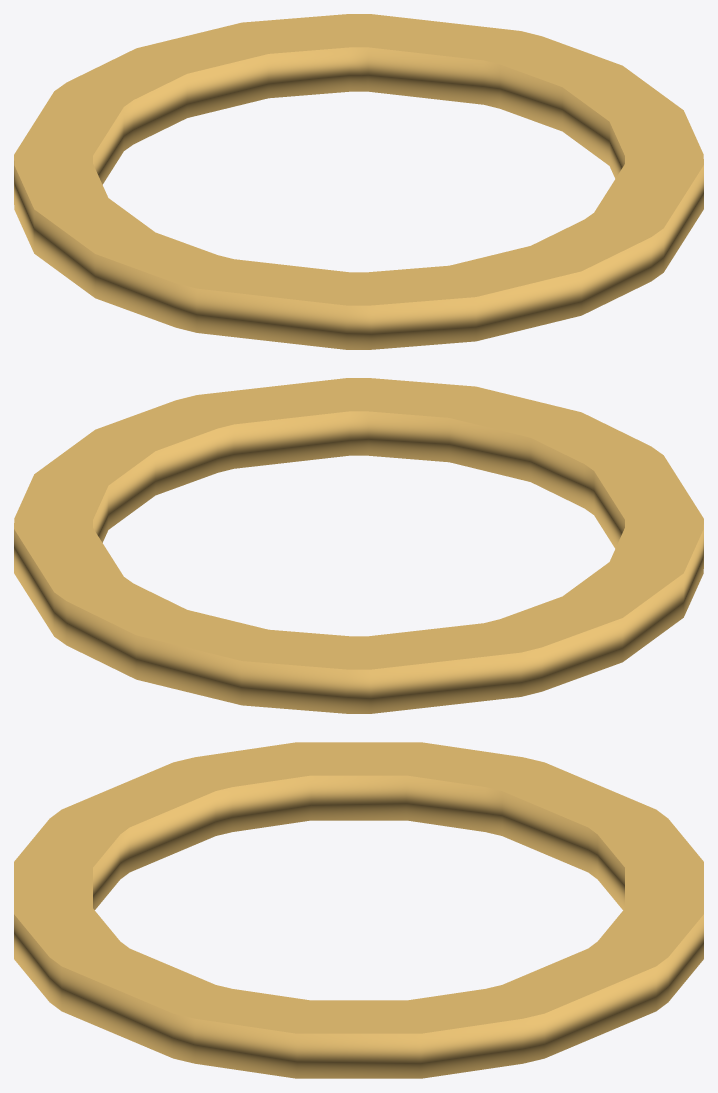
Rendered from MovementPoint.fbx.
3 views of the same model, one above another, from view 1: azimuth 30°, elevation 25°; view 2: azimuth 150°, elevation 25°; view 3: azimuth 270°, elevation 25° (orthographic).
Parts seen in each view (by area): view 1: Mball.003; view 2: Mball.003; view 3: Mball.003.
Boxes of the visible parts, x1,y1,x2,y2 form: Mball.003: (14,14,703,349); Mball.003: (14,378,703,713); Mball.003: (14,742,703,1078).
Bounding box in the file's own units: 50.2 × 3.61 × 50.2.
